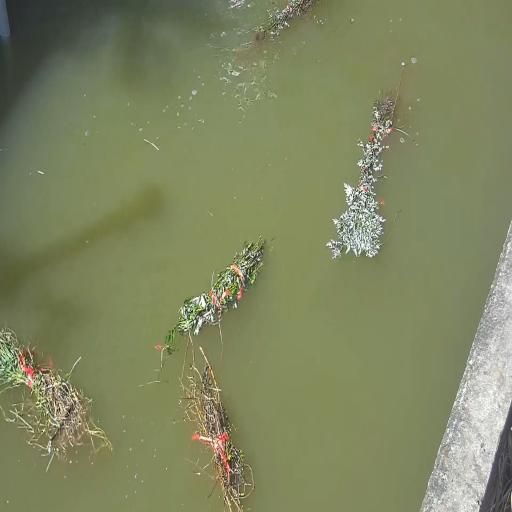twig: (0, 324, 114, 474), (179, 313, 255, 512), (325, 68, 402, 264), (162, 231, 268, 345), (252, 0, 325, 43)
